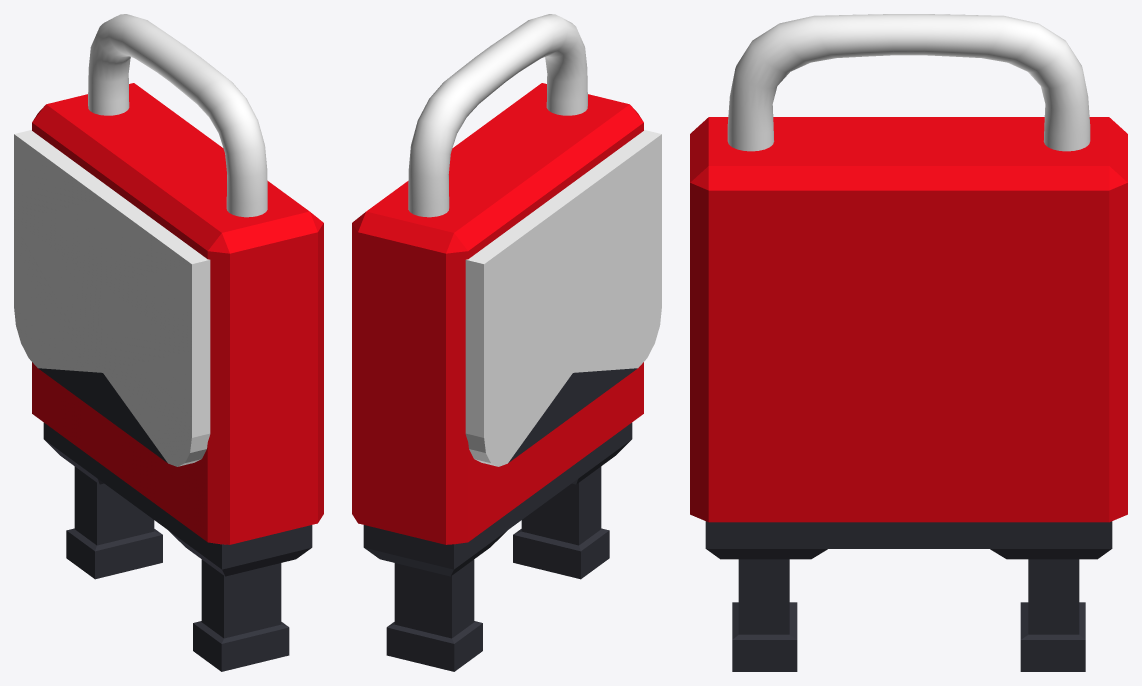
Rendered from Key_Lock_Red.fbx.
3 views of the same model, side by side, from view 1: azimuth 30°, elevation 25°; view 2: azimuth 150°, elevation 25°; view 3: azimuth 270°, elevation 25° (orthographic). The views are drawn at different scales.
Parts seen in each view (by area): view 1: Key_Lock_Red; view 2: Key_Lock_Red; view 3: Key_Lock_Red.
Part boxes in pixels (box(x1,y1,x2,y2)): Key_Lock_Red: box(14, 14, 323, 671); Key_Lock_Red: box(352, 14, 661, 671); Key_Lock_Red: box(690, 14, 1127, 671).
Bounding box in the file's own units: 15.19 × 60.97 × 37.98.
